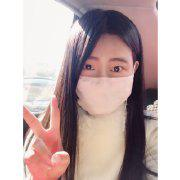OK: (67, 46, 137, 117)
